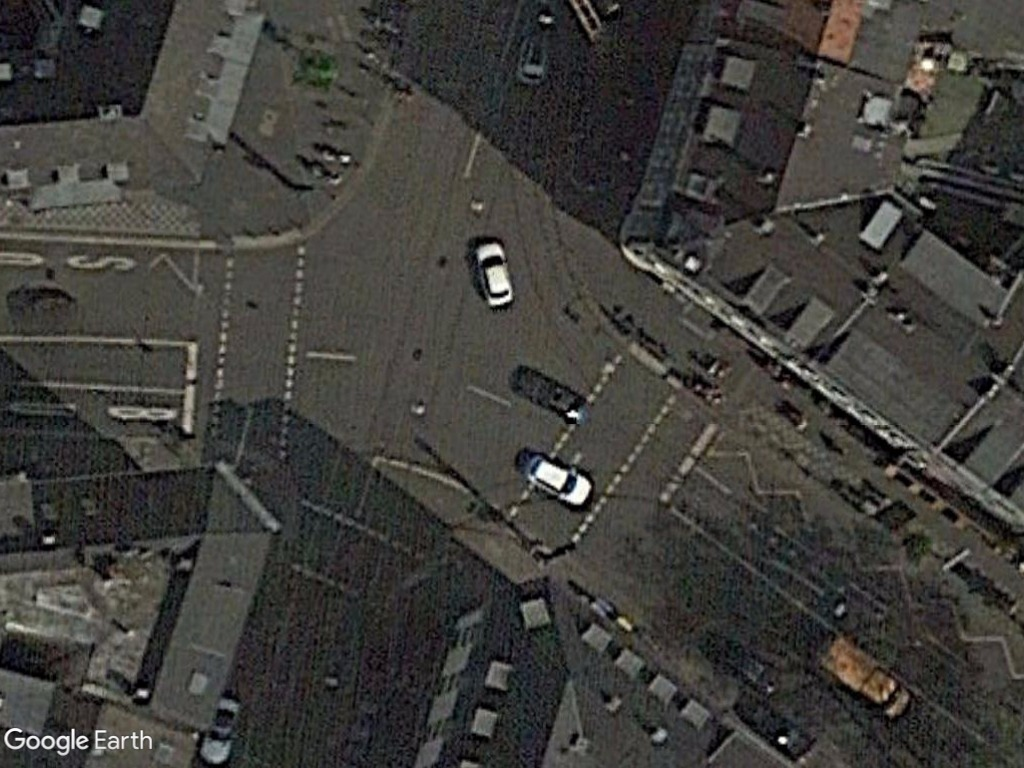car: (522, 451, 595, 509), (474, 234, 517, 313)
